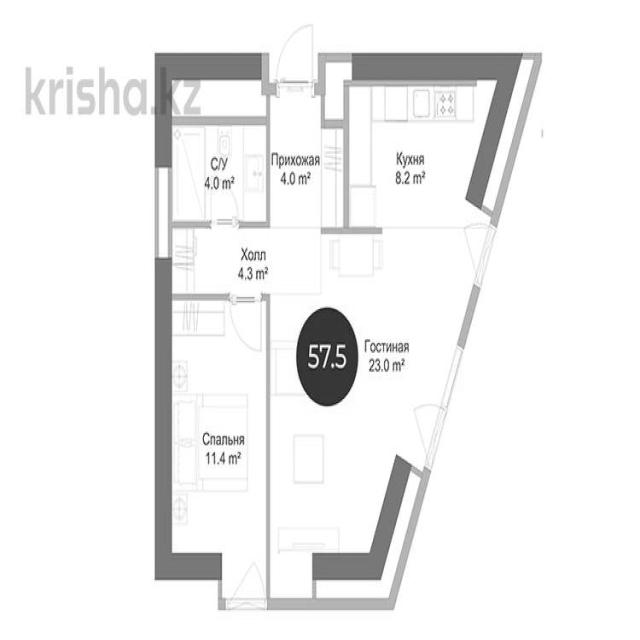bathroom: (168, 119, 266, 225)
hallway: (269, 89, 345, 229), (168, 229, 322, 297)
kitchen: (347, 83, 498, 227)
living_room: (269, 226, 512, 598), (168, 298, 267, 564)
